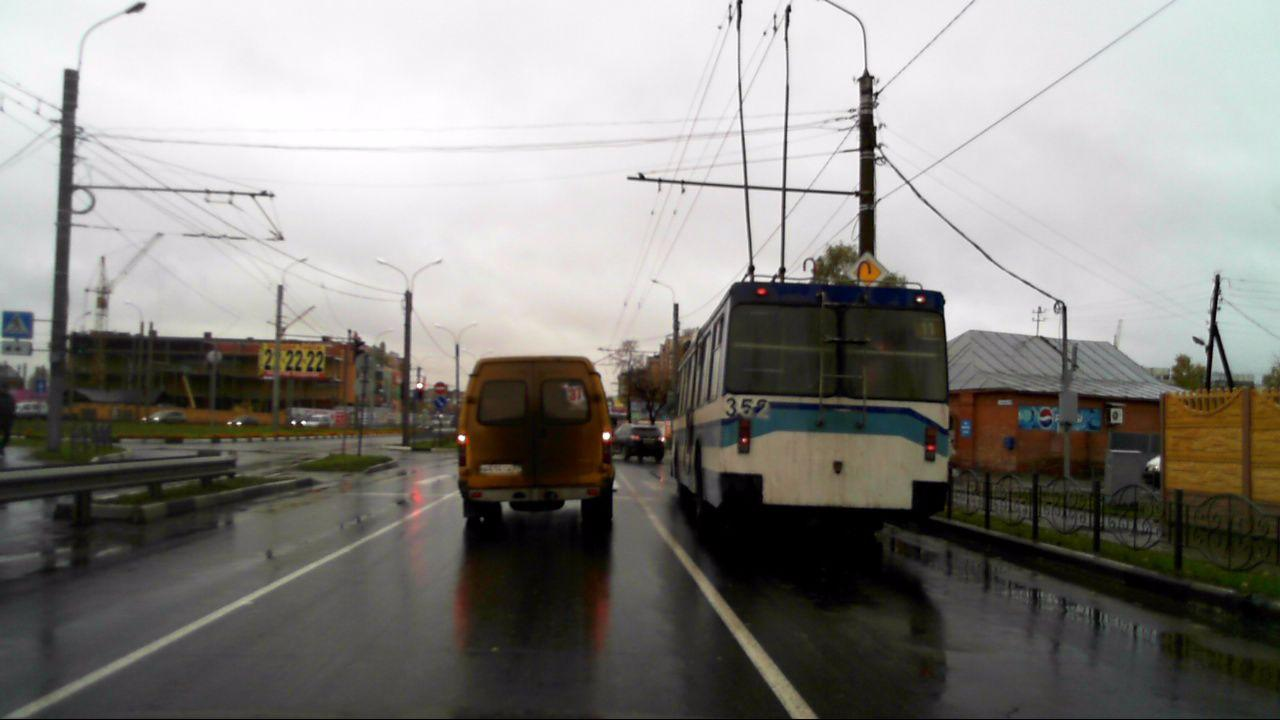obstructed_road_sign: (844, 250, 889, 286)
road_sign: (2, 311, 33, 338), (2, 341, 32, 355), (433, 395, 448, 410), (434, 382, 447, 395)
